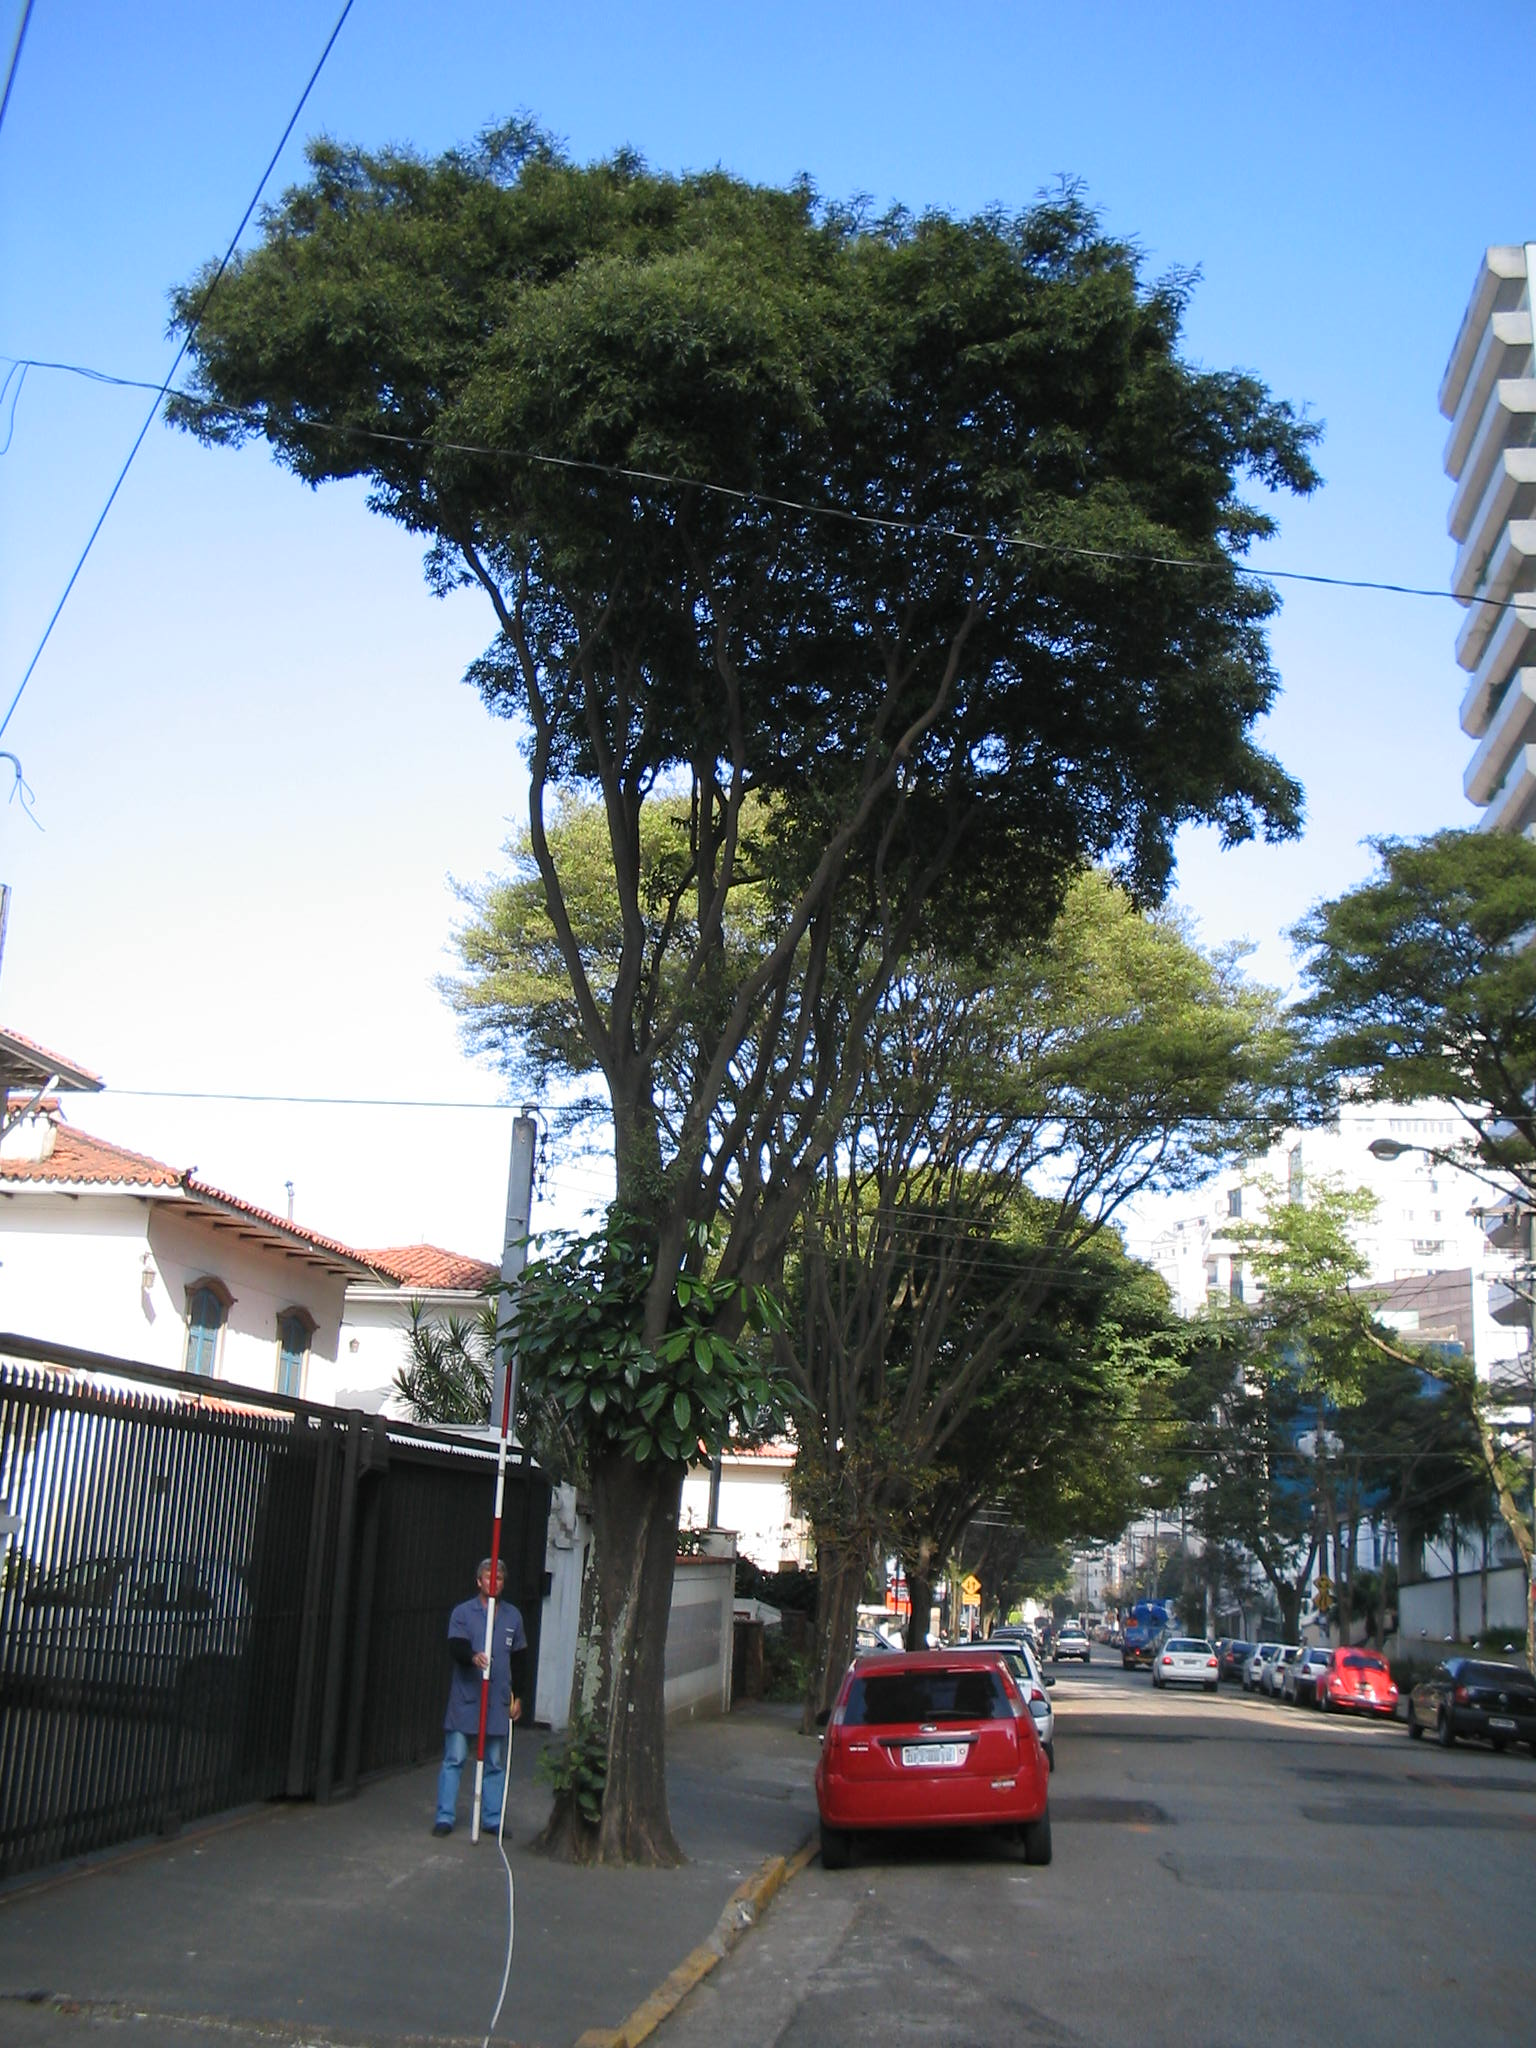crown: (169, 113, 1315, 1003)
stem: (537, 1455, 721, 1867)
stick: (436, 1361, 552, 1843)
tree: (161, 111, 1320, 1871)
